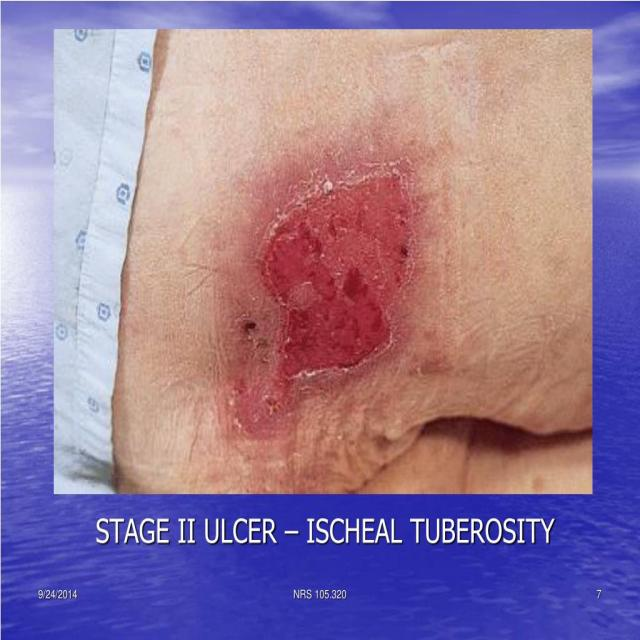stage-2: (266, 173, 412, 382)
